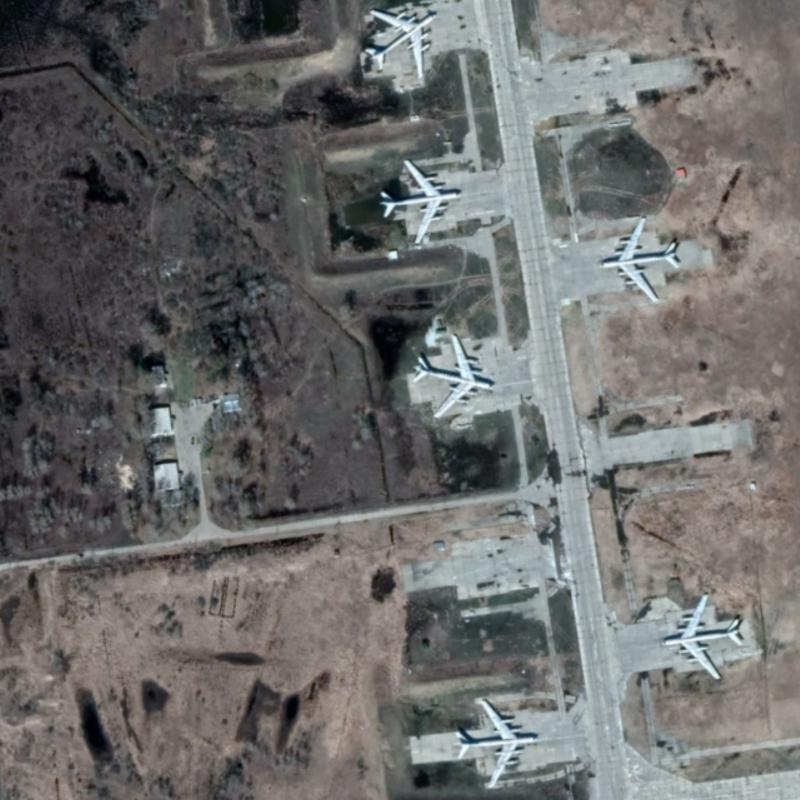A17: (657, 591, 743, 681), (453, 696, 536, 789), (376, 156, 461, 246), (596, 215, 680, 302), (409, 331, 492, 419), (362, 7, 437, 79)
